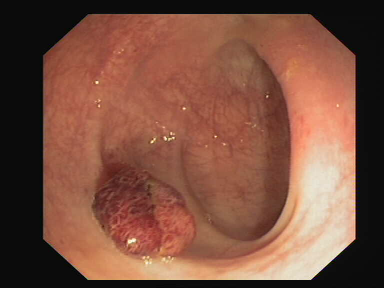polyp: (71, 135, 233, 273)
